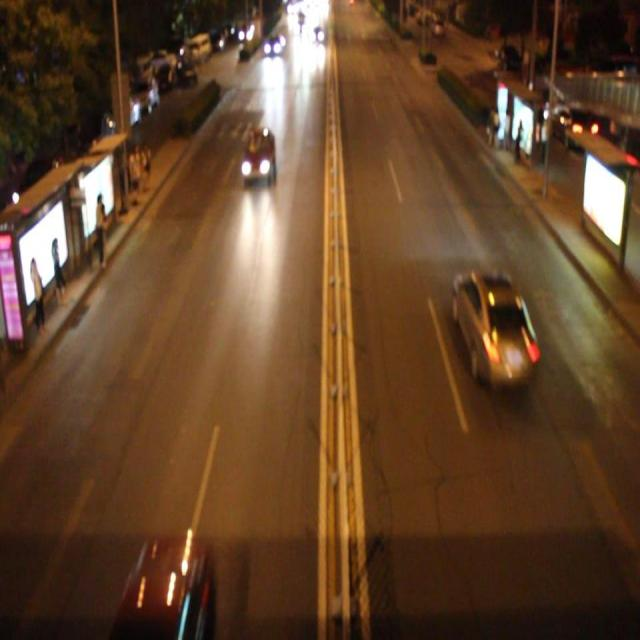car: (454, 267, 538, 392), (240, 126, 275, 181)
